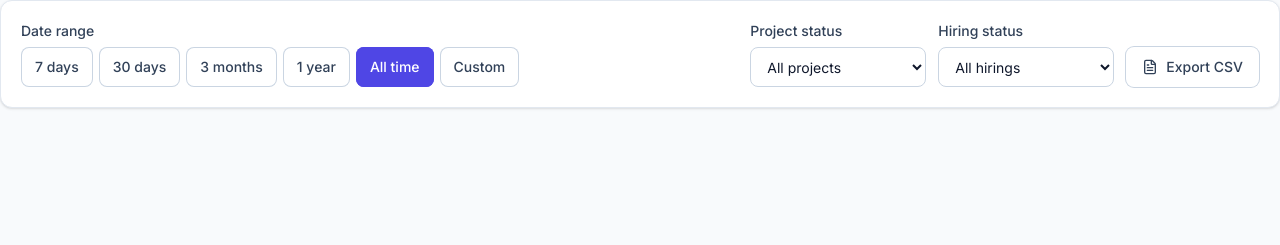
Test case: the filter bar › a custom range is checked before it is applied
The width and height of the screenshot is (1280, 245).
Later steps or results of the test are not shown.
Click the button "Custom": (479, 67) [440,47,519,87]
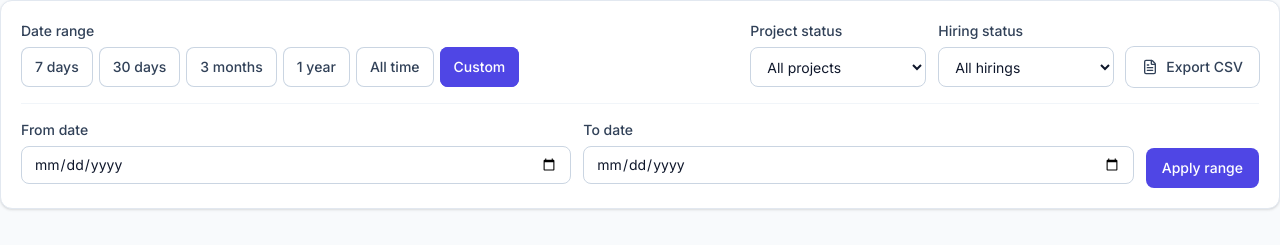
Click the button "Apply range": (1202, 168) [1146,148,1259,188]
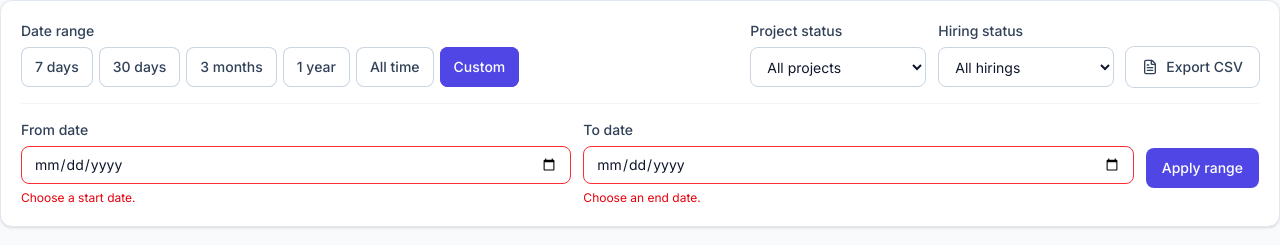
Now the text "Choose a start date." is shown, box [21,190,136,205]
Now the text "Choose an end date." is shown, box [583,190,701,205]
In the date field labelled "From date": (296, 165) [21,146,571,184], type "2001-03-05"
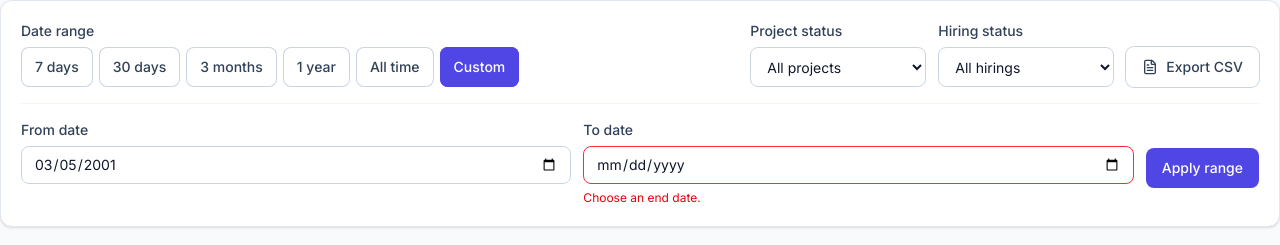
In the date field labelled "To date": (859, 165) [583,146,1134,184], type "2001-03-01"
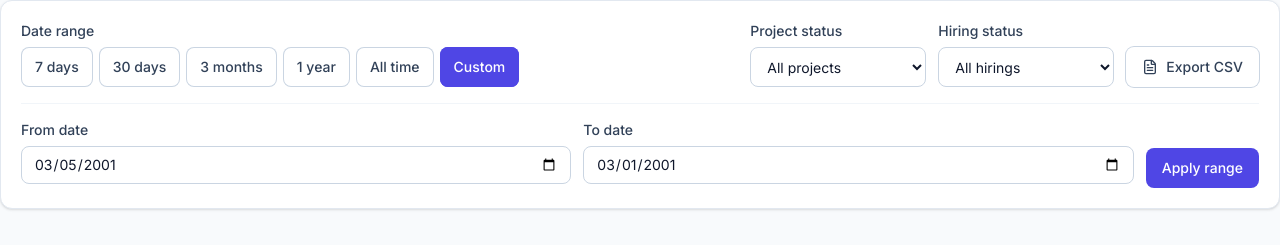
Click the button "Apply range": (1202, 168) [1146,148,1259,188]
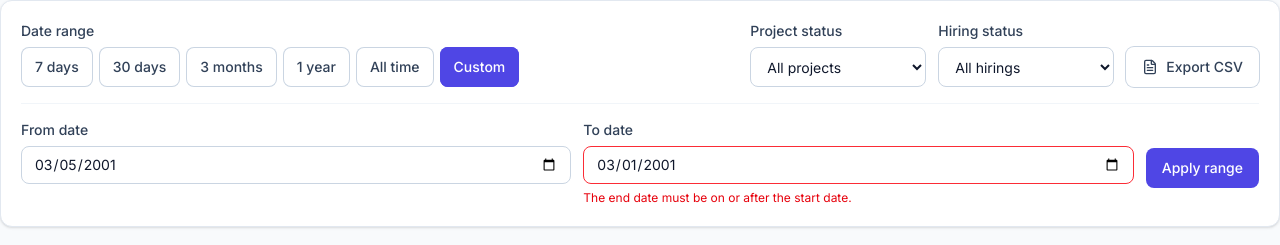
Now the text "The end date must be on or after the start date." is shown, box [583,190,852,205]
In the date field labelled "To date": (859, 165) [583,146,1134,184], type "2001-03-31"
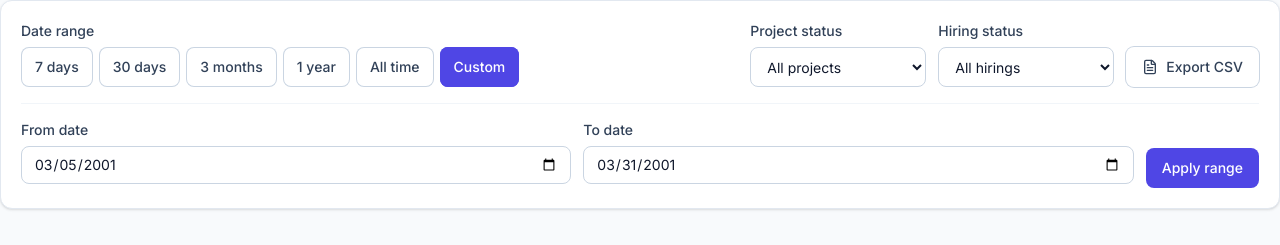
Now the text "The end date must be on or after the start date." is gone
